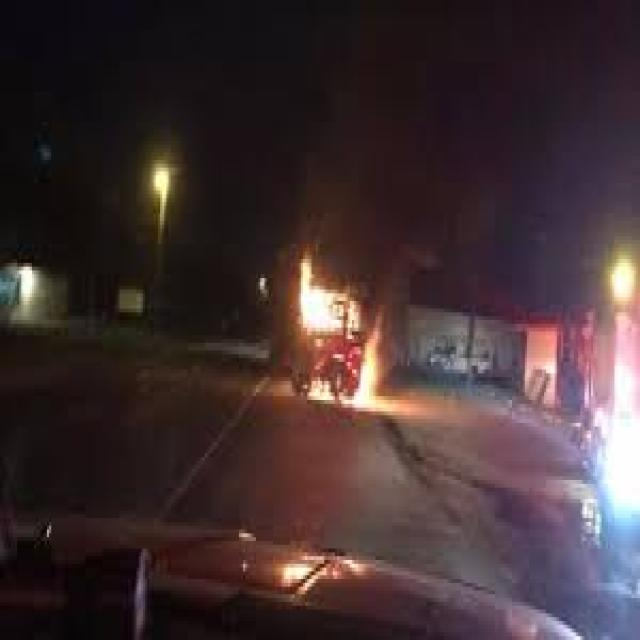Fire: (279, 232, 407, 462)
Smoke: (300, 0, 436, 271)
